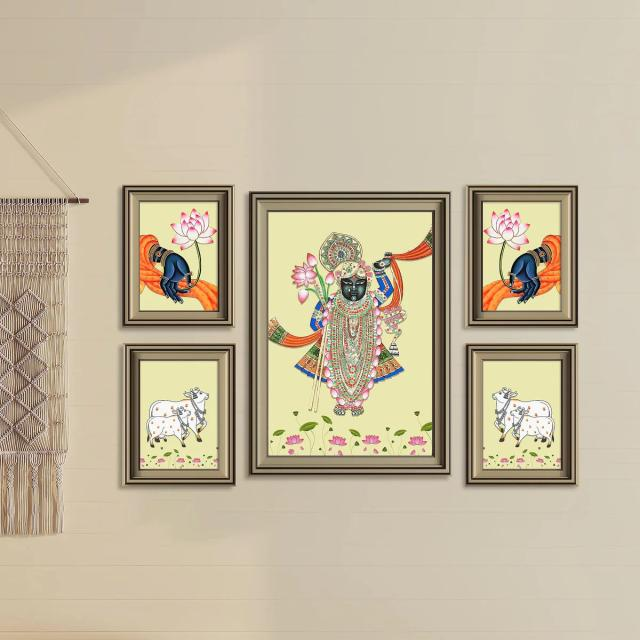painting: (247, 188, 452, 473), (123, 184, 234, 325), (123, 343, 234, 484), (466, 344, 576, 485), (467, 186, 577, 327)
